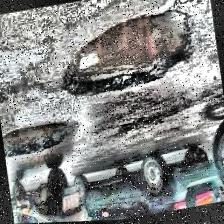pothole: (50, 5, 204, 108), (2, 116, 80, 166)
